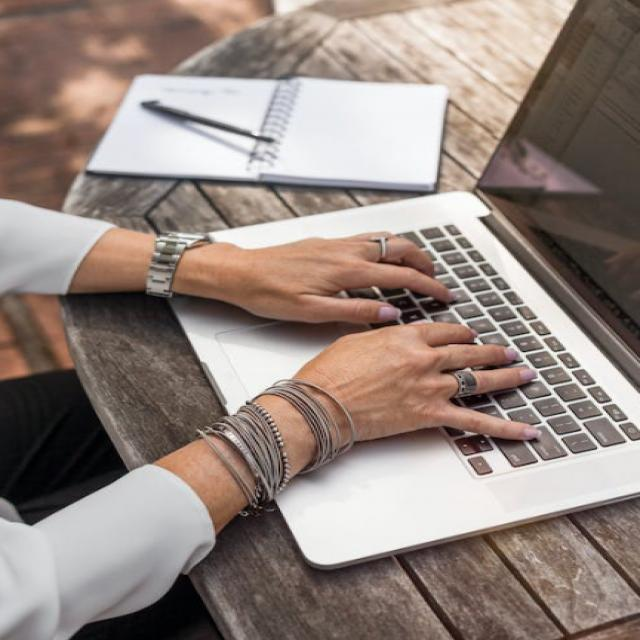Watch: (146, 224, 214, 303)
